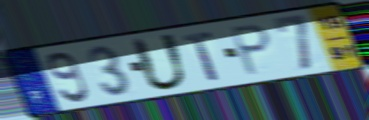3: (87, 43, 136, 99)
7: (270, 12, 316, 72)
9: (46, 50, 90, 103)
P: (229, 22, 274, 78)
T: (180, 30, 222, 82)
U: (128, 32, 191, 93)
